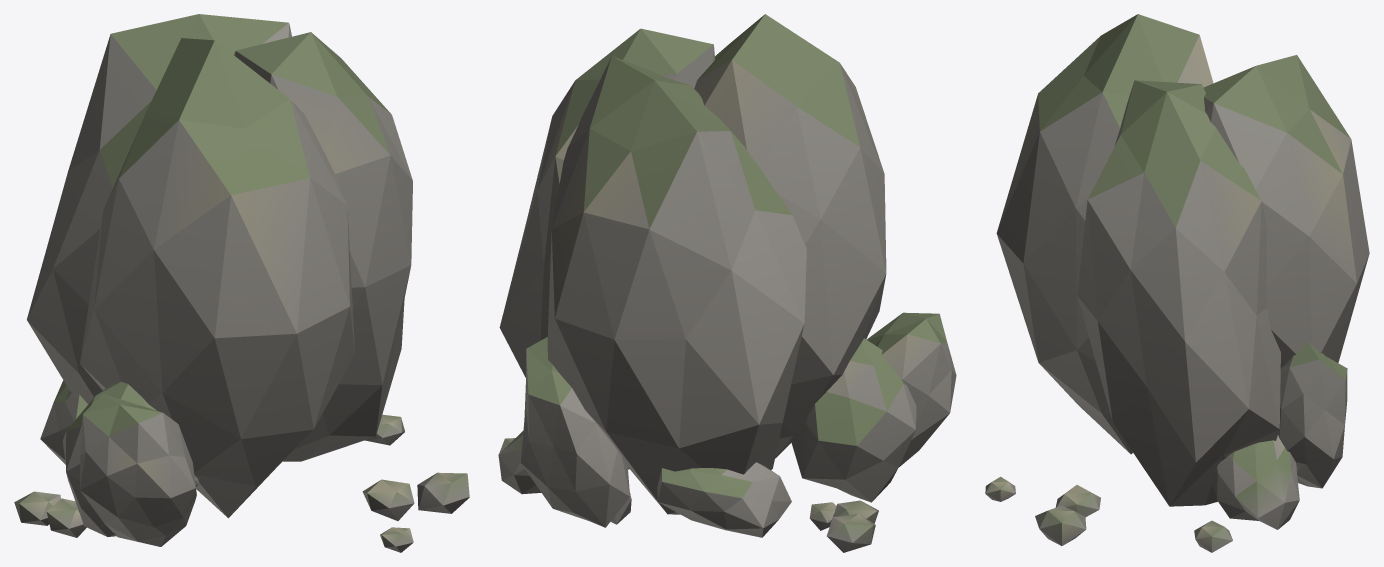
The model's file is rock_formation_b.glb.
3 views of the same model, side by side, from view 1: azimuth 30°, elevation 25°; view 2: azimuth 150°, elevation 25°; view 3: azimuth 270°, elevation 25° (orthographic). The views are drawn at different scales.
Visible parts, largest first — view 1: rock_formation_b; view 2: rock_formation_b; view 3: rock_formation_b.
Boxes of the visible parts, left/top/right/bottom form: rock_formation_b: left=14, top=14, right=469, bottom=552; rock_formation_b: left=498, top=14, right=956, bottom=552; rock_formation_b: left=985, top=14, right=1369, bottom=552.
Bounding box in the file's own units: 1.78 × 2.09 × 1.65.
